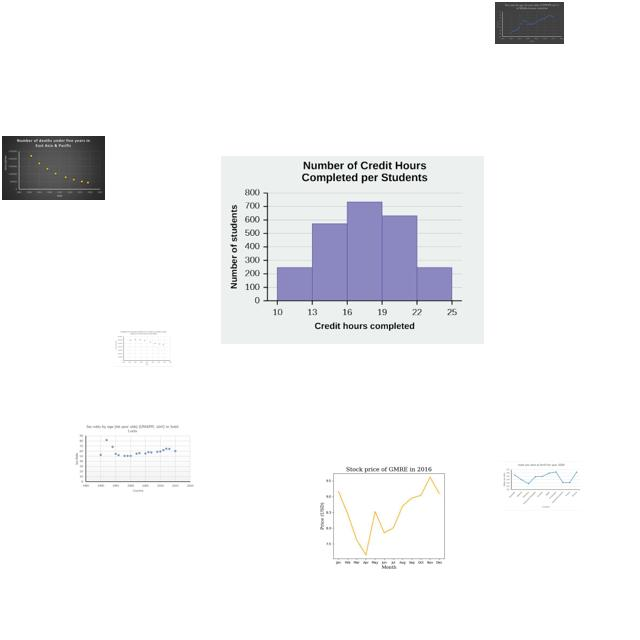Graph: (221, 156, 484, 344), (313, 460, 461, 571), (72, 421, 195, 494), (2, 136, 105, 200), (500, 461, 582, 511), (495, 2, 564, 44), (114, 330, 173, 367)
